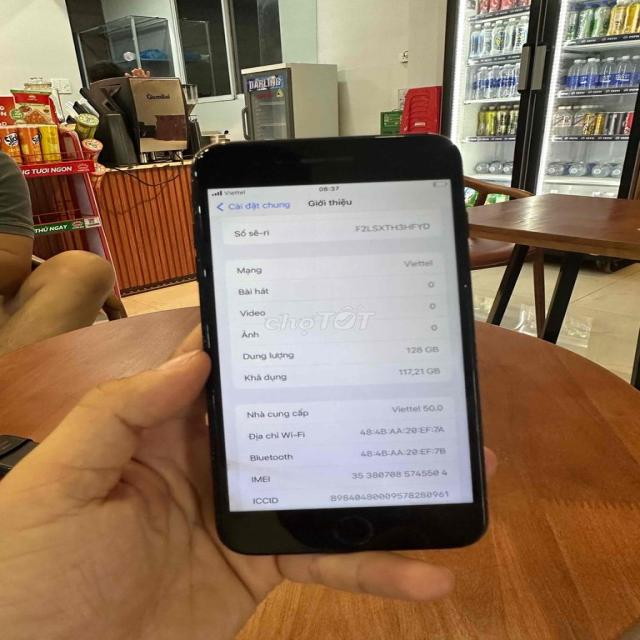gen_7_8: (193, 134, 488, 557)
